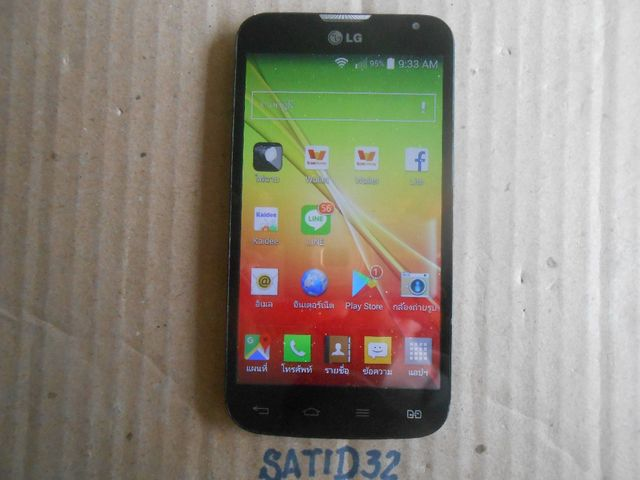Phone: (225, 11, 457, 441)
